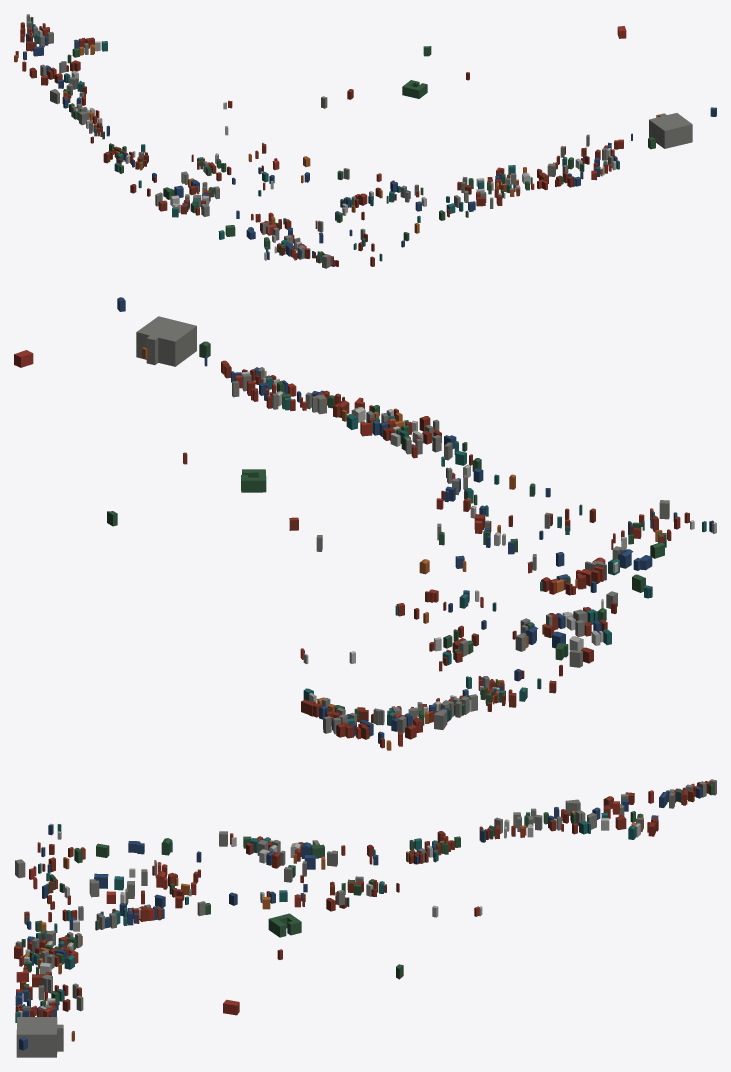
Rendered from near-15-27362-14871.3f5c1020.glb.
3 views of the same model, one above another, from view 1: azimuth 30°, elevation 25°; view 2: azimuth 150°, elevation 25°; view 3: azimuth 270°, elevation 25° (orthographic). The views are drawn at different scales.
Bounding box in the file's own units: 1113 × 237 × 1172.
